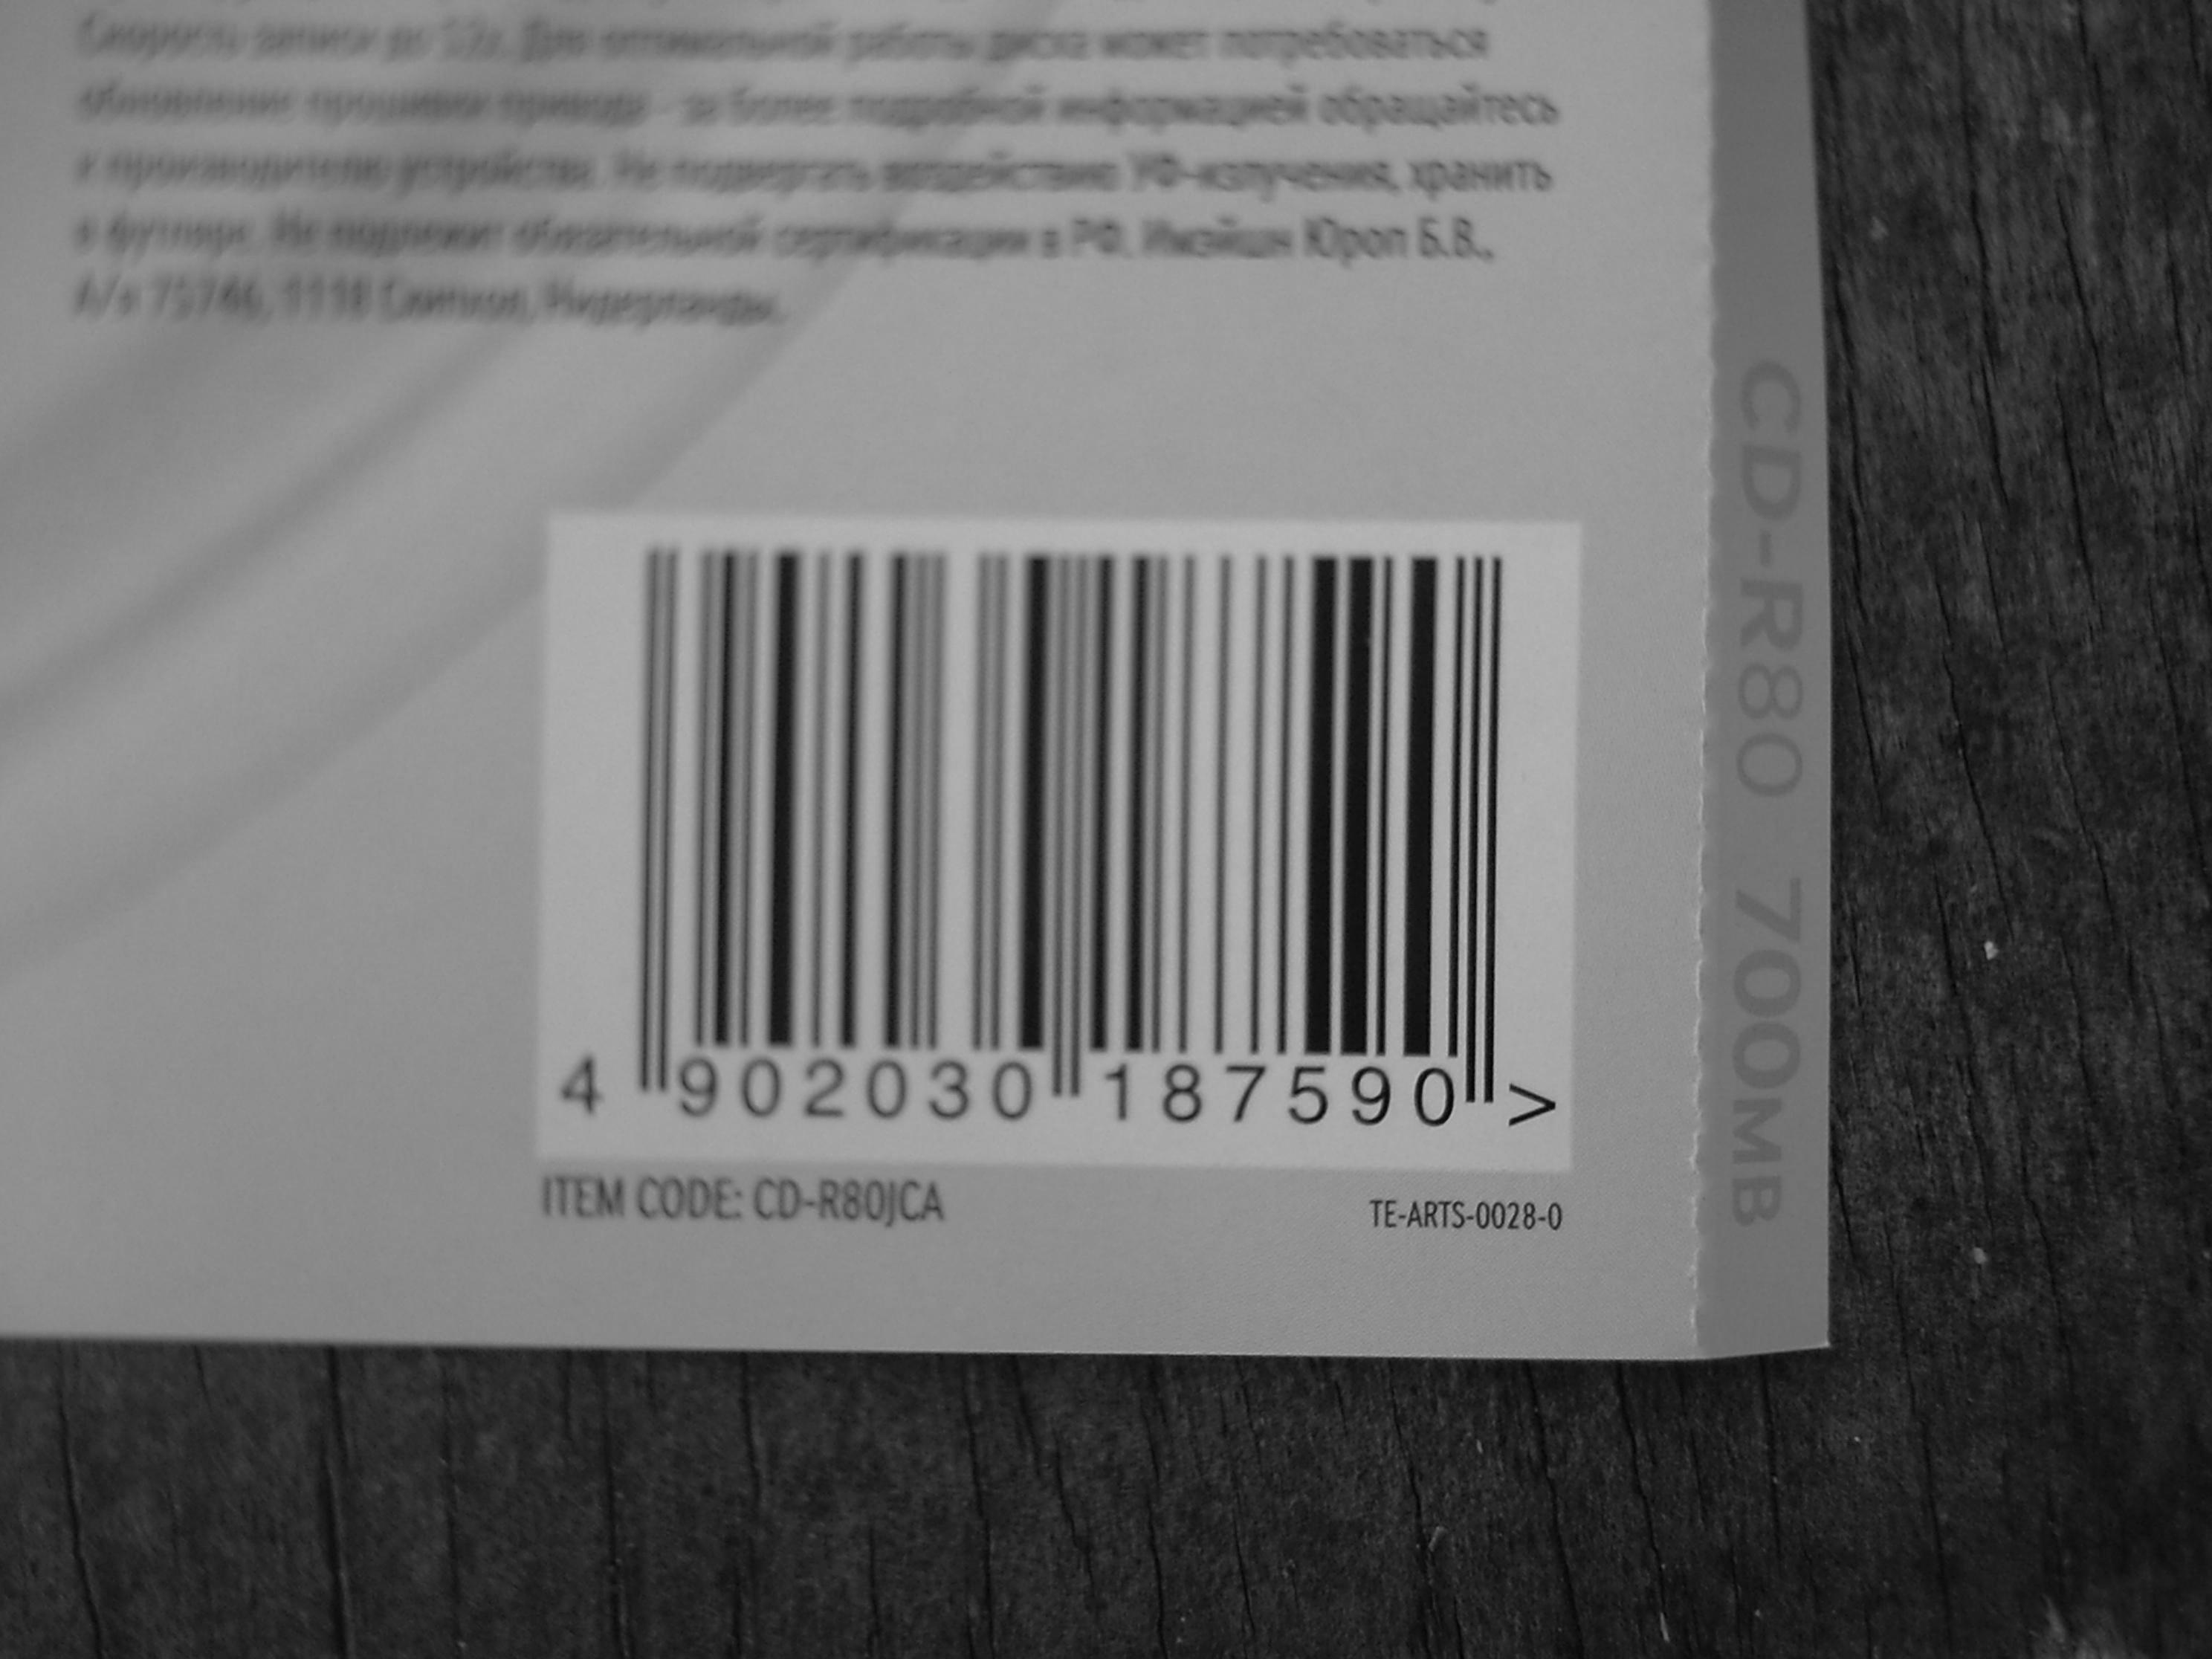Barcode: (611, 542, 1550, 1091)
